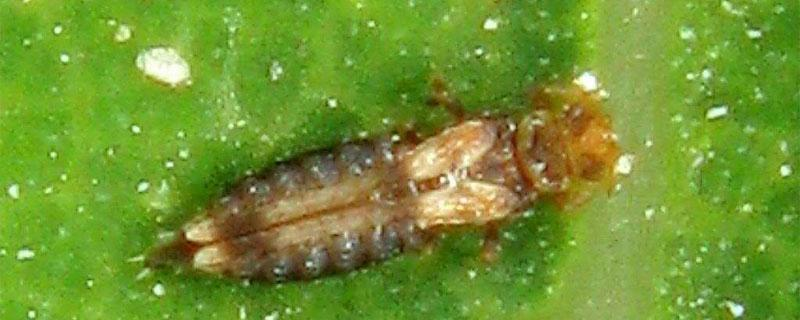Thripidae: (135, 74, 632, 289)
